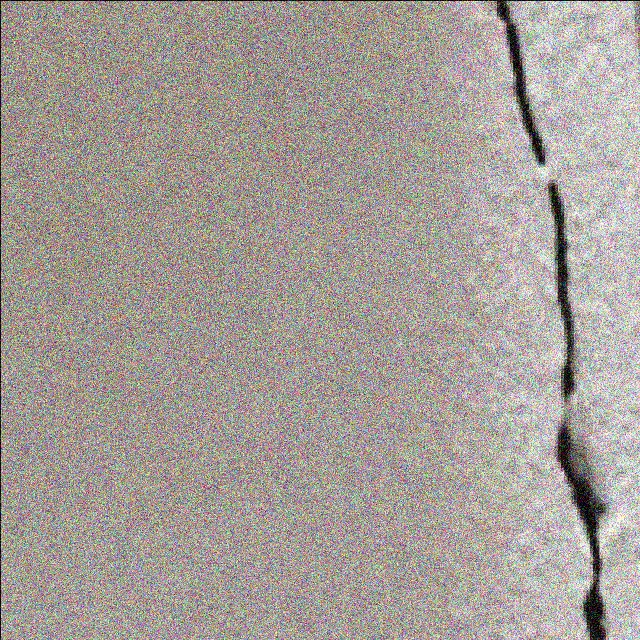SurfaceCrack: (462, 0, 640, 640)
